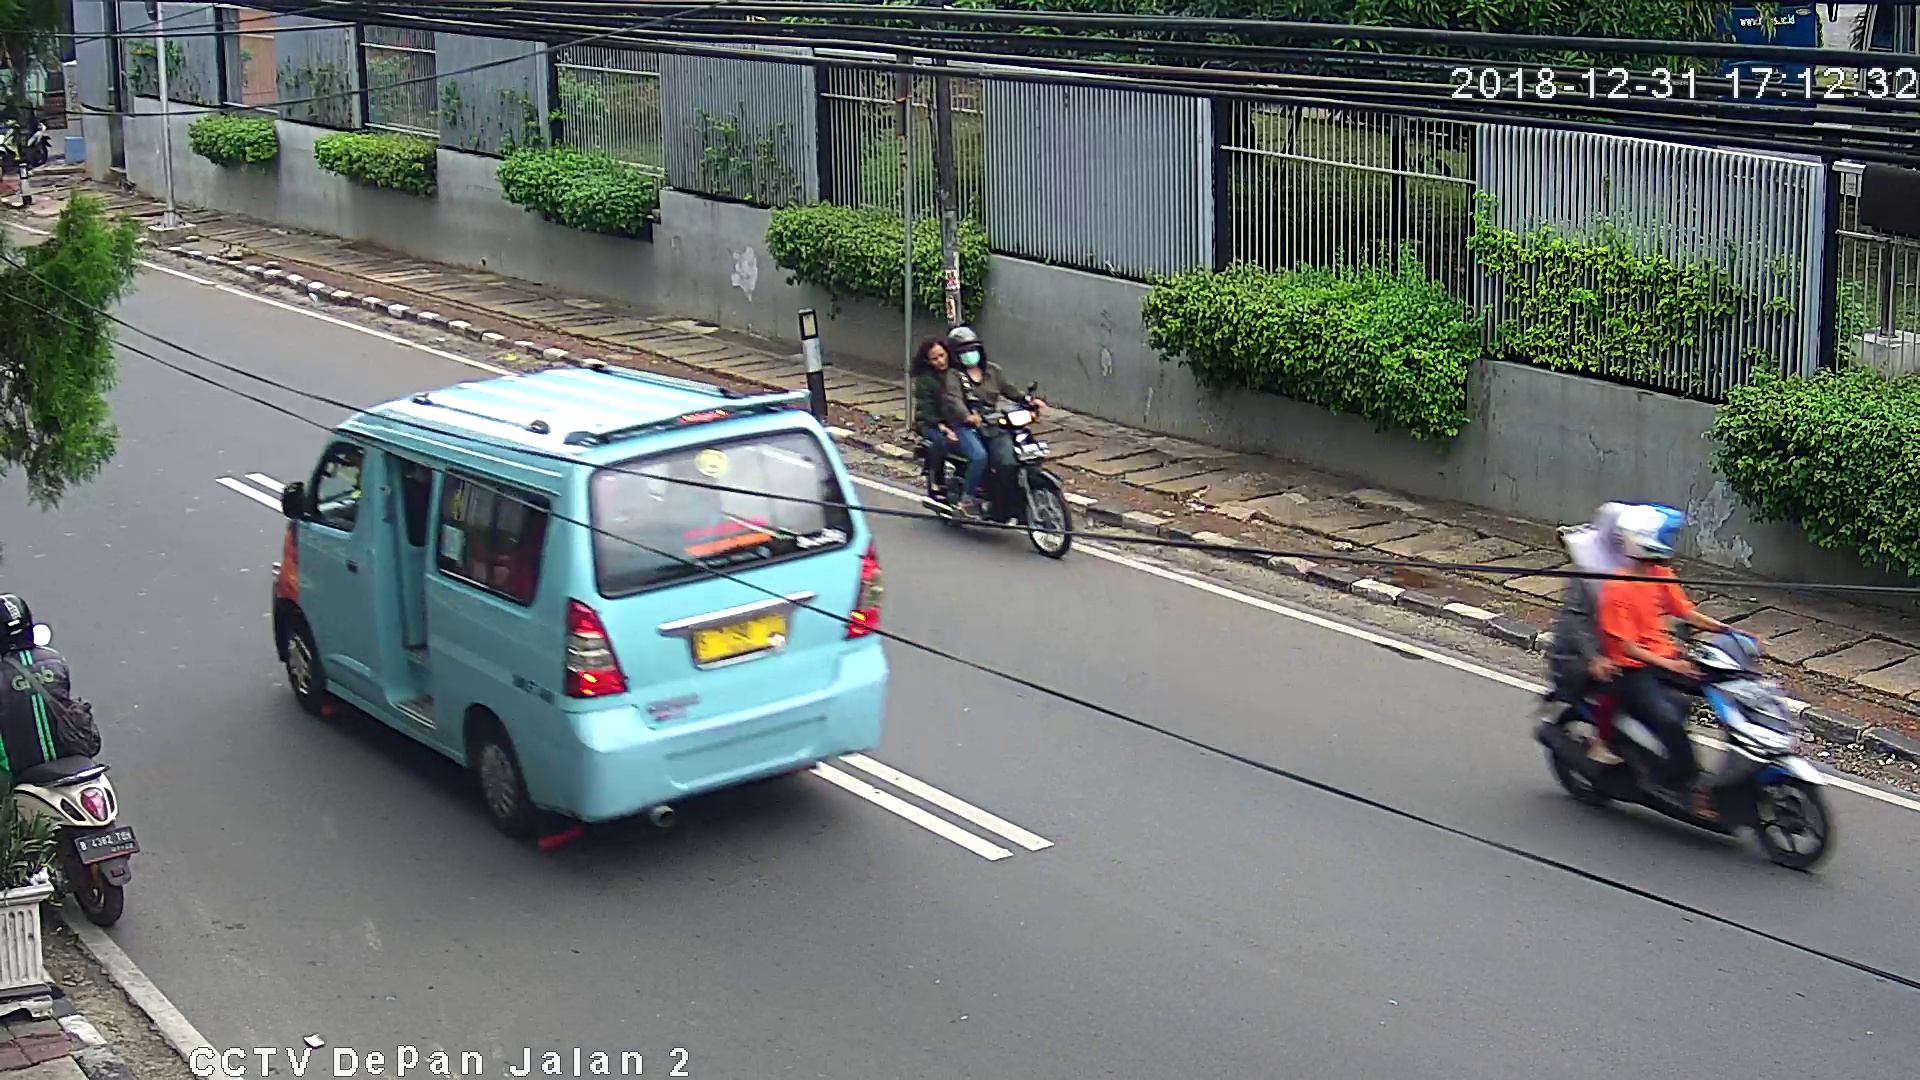bus: (266, 368, 897, 860)
motorcycle: (1516, 493, 1836, 887), (1, 596, 158, 936), (903, 315, 1079, 566)
